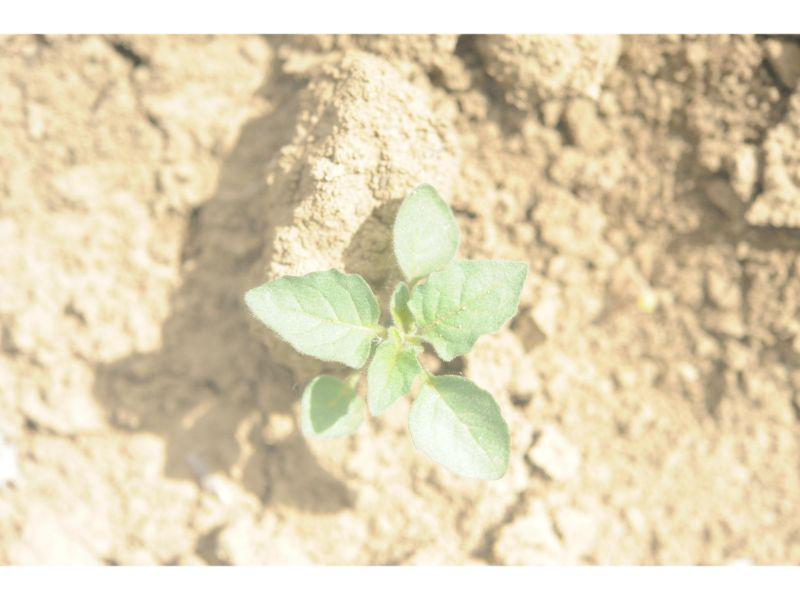nightshade: (244, 183, 530, 479)
